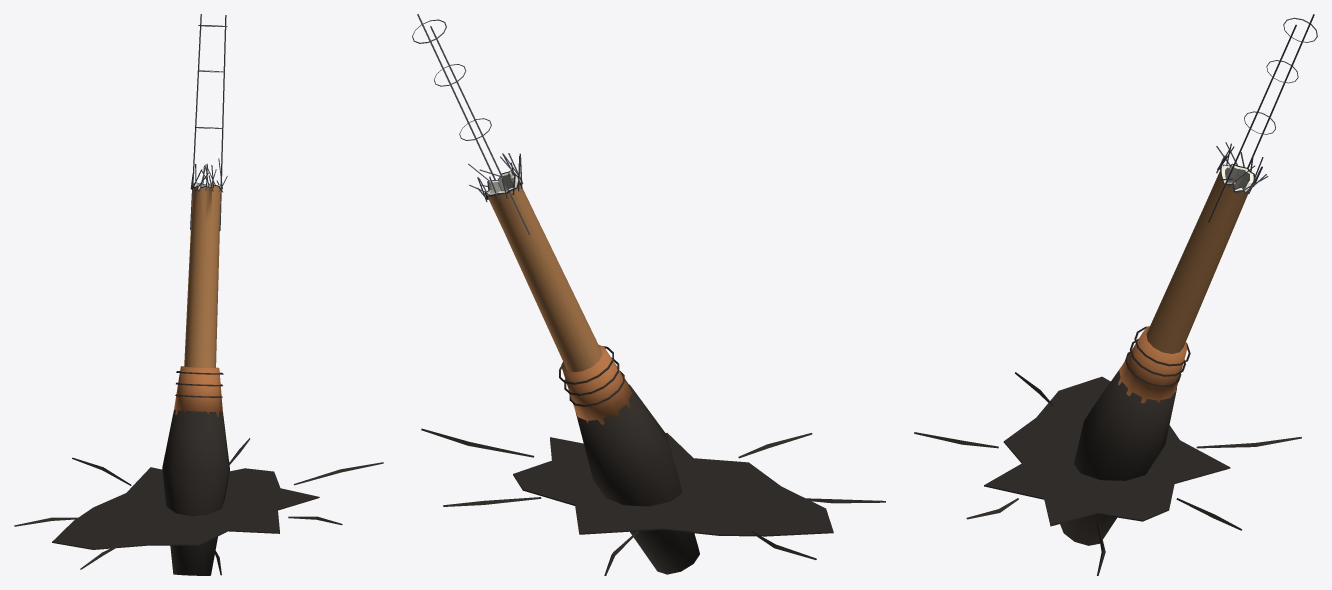
Rendered from Brush_Big.fbx.
3 renders of one model, left to right at view 1: azimuth 30°, elevation 25°; view 2: azimuth 150°, elevation 25°; view 3: azimuth 270°, elevation 25°, orthographic. The views are drawn at different scales.
Parts seen in each view (by area): view 1: InkPool, Bristles, Handle, Lines; view 2: InkPool, Handle, Bristles, Lines; view 3: InkPool, Handle, Bristles, Lines.
Part boxes in pixels (x1,y1,x2,y2): InkPool: [14, 438, 383, 575]; Bristles: [162, 410, 229, 575]; Handle: [174, 183, 223, 416]; Lines: [175, 14, 227, 397]; InkPool: [421, 428, 885, 575]; Handle: [487, 171, 632, 424]; Bristles: [575, 384, 699, 574]; Lines: [412, 14, 624, 406]; InkPool: [914, 372, 1301, 575]; Handle: [1118, 164, 1253, 403]; Bristles: [1060, 367, 1176, 545]; Lines: [1125, 14, 1317, 387].
Bounding box in the file's own units: 4.08 × 5.41 × 3.38.
